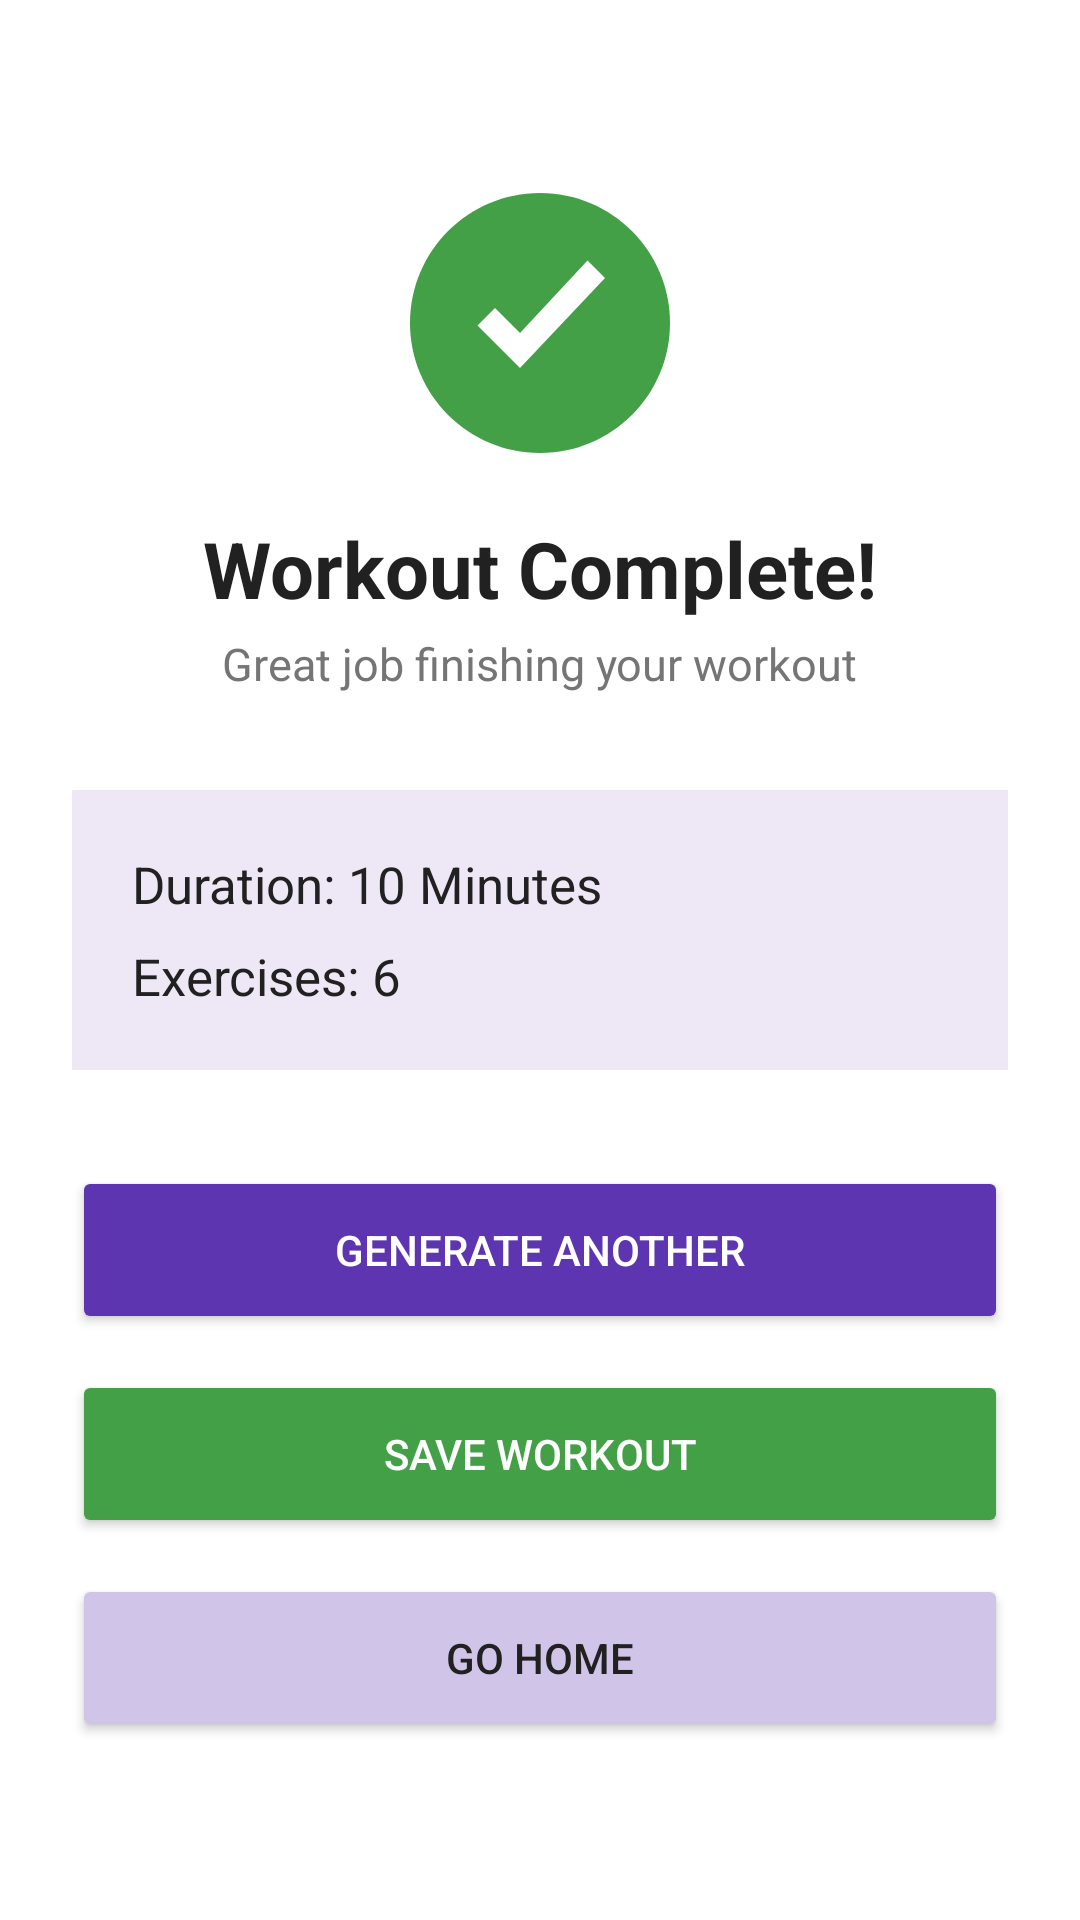

Where icons sit on this 1080×1920 app screen, as [left=x1, top=y1, right=x2, bottom=y2]:
checkmark: [left=410, top=193, right=670, bottom=453]
